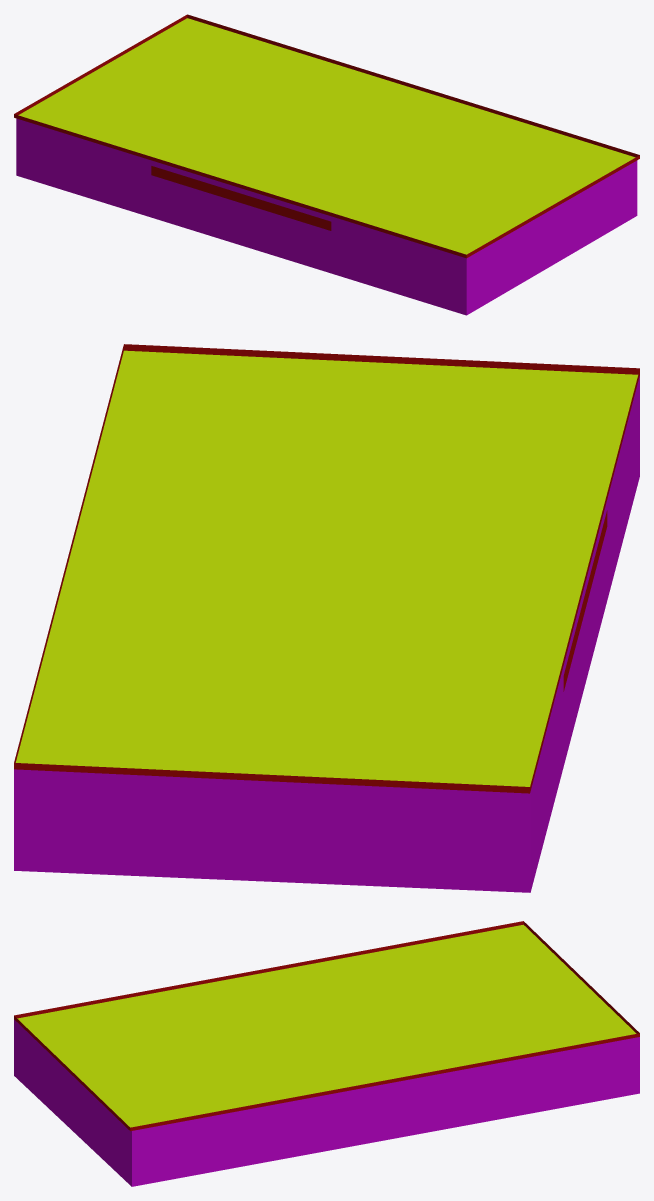
The model's file is bgj_157.glb.
3 views of the same model, one above another, from view 1: azimuth 30°, elevation 25°; view 2: azimuth 150°, elevation 25°; view 3: azimuth 270°, elevation 25° (orthographic). The views are drawn at different scales.
Parts seen in each view (by area): view 1: bgj_157; view 2: bgj_157; view 3: bgj_157.
Boxes of the visible parts, x1,y1,x2,y2 form: bgj_157: [14, 14, 639, 315]; bgj_157: [14, 344, 639, 892]; bgj_157: [14, 921, 639, 1186].
Size of the model in its own units: 42.52 by 5.79 by 54.46.
